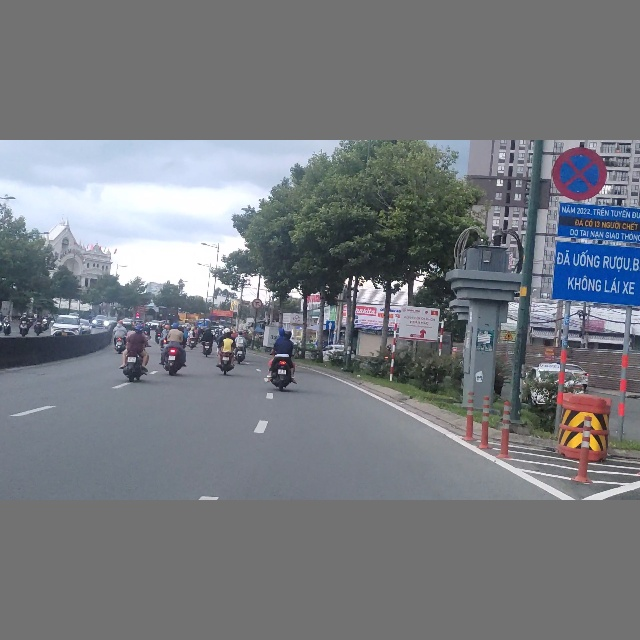I.407a: (326, 320, 335, 330)
P.123b: (252, 298, 263, 309)
P.130: (552, 145, 608, 202)
